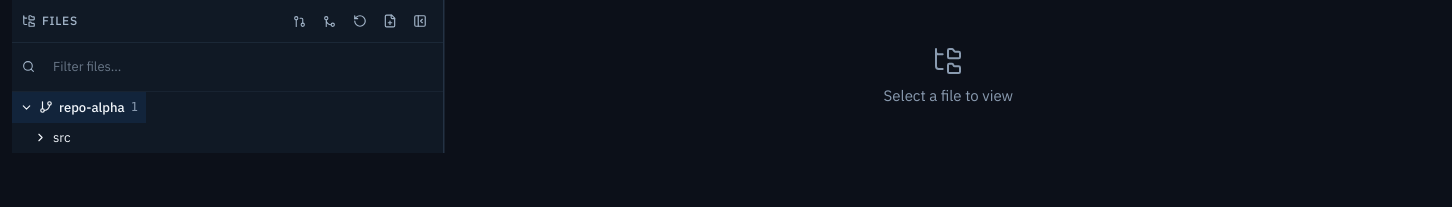
Test case: UnifiedRepoView lazy directory tree › creates a child file inline when a directory is selected
Click the button "src".
click(45, 138)  # box [12, 123, 79, 152]
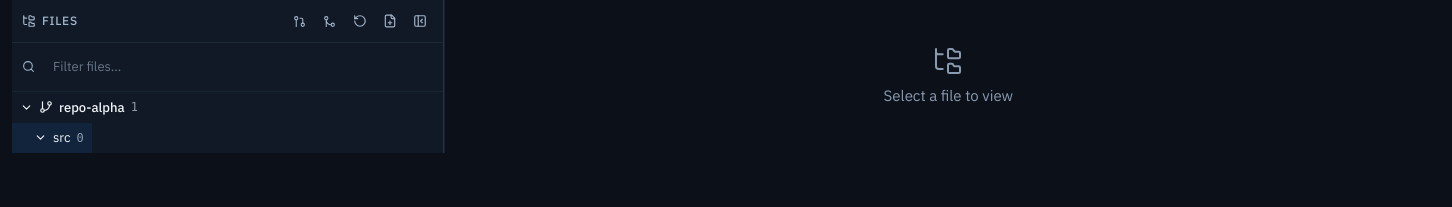
Click the button titled "New file".
click(390, 21)  # box [377, 8, 403, 34]
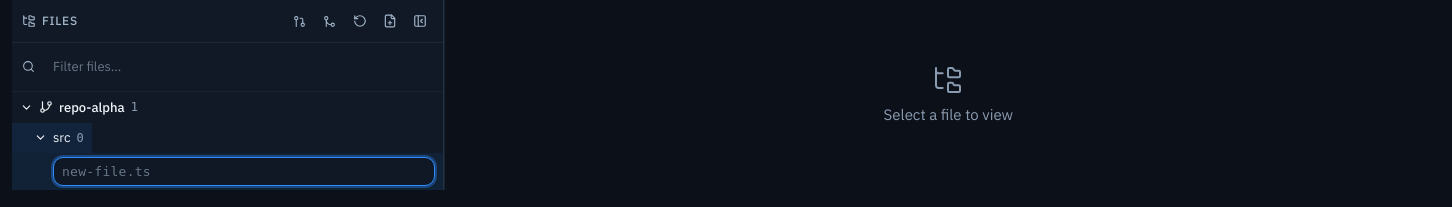
Type "child.ts" into the field with placeholder "new-file.ts".
click(244, 171); type("child.ts")  # box [53, 157, 435, 186]
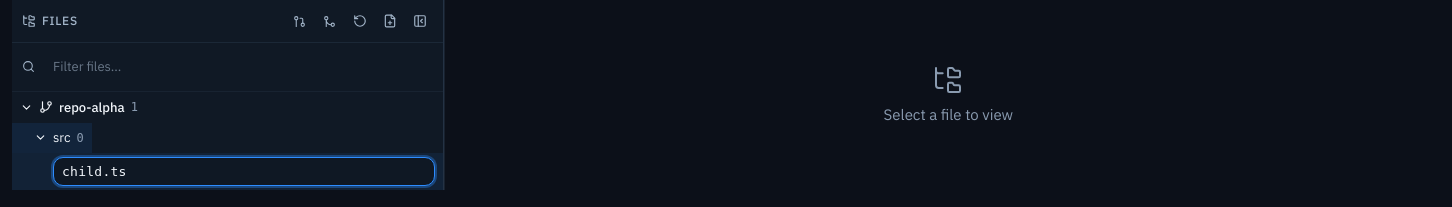
Press Enter in the field with placeholder "new-file.ts", box [53, 157, 435, 186]
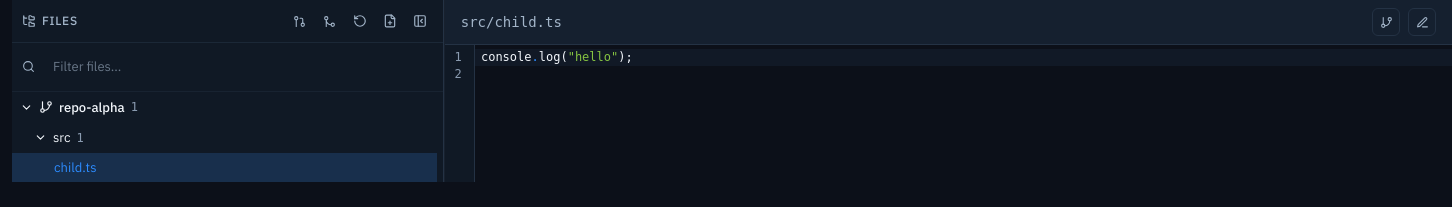
expect the button titled "src/child.ts" is shown: met, box [12, 153, 437, 182]
